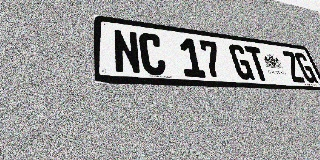1: (177, 37, 206, 78)
7: (198, 40, 226, 79)
C: (138, 32, 167, 76)
G: (228, 44, 255, 80), (293, 52, 318, 83)
N: (112, 29, 142, 75)
T: (244, 46, 271, 81)
Z: (281, 50, 306, 83)
